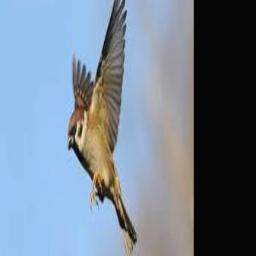Sparrow: (68, 0, 137, 256)
